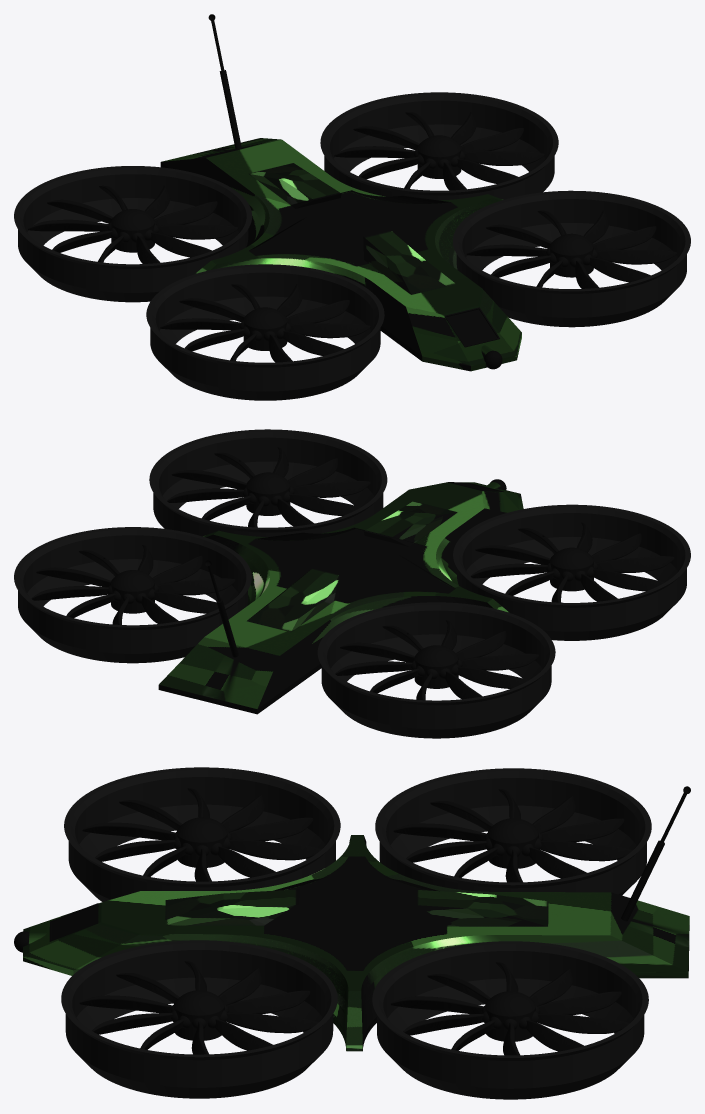
3 views of the same model, one above another, from view 1: azimuth 30°, elevation 25°; view 2: azimuth 150°, elevation 25°; view 3: azimuth 270°, elevation 25° (orthographic). The views are drawn at different scales.
Parts seen in each view (by area): view 1: camo_body1_2, motor_props_8, motor_props.001_9, motor_props.003_10, motor_props.002_11, camo_body3_4, camo_body4_5, camo_body_antenna_6, camo_body2_3; view 2: camo_body1_2, motor_props.003_10, motor_props.002_11, motor_props_8, motor_props.001_9, camo_body4_5, camo_body3_4, camo_body2_3, camo_body_antenna_6; view 3: camo_body1_2, motor_props.001_9, motor_props.002_11, motor_props_8, motor_props.003_10, camo_body4_5, camo_body3_4, camo_body_antenna_6.
Part boxes in pixels (left/top/right/bottom): camo_body1_2: left=160, top=138, right=521, bottom=371; motor_props_8: left=146, top=264, right=384, bottom=400; motor_props.001_9: left=453, top=190, right=690, bottom=327; motor_props.003_10: left=14, top=166, right=252, bottom=302; motor_props.002_11: left=320, top=92, right=558, bottom=200; camo_body3_4: left=363, top=230, right=455, bottom=294; camo_body4_5: left=249, top=163, right=341, bottom=208; camo_body_antenna_6: left=208, top=14, right=241, bottom=149; camo_body2_3: left=249, top=190, right=450, bottom=250; camo_body1_2: left=158, top=482, right=523, bottom=714; motor_props.003_10: left=317, top=602, right=555, bottom=738; motor_props.002_11: left=14, top=527, right=251, bottom=663; motor_props_8: left=453, top=504, right=690, bottom=640; motor_props.001_9: left=149, top=429, right=387, bottom=536; camo_body4_5: left=247, top=567, right=340, bottom=631; camo_body3_4: left=364, top=501, right=457, bottom=546; camo_body2_3: left=255, top=527, right=454, bottom=587; camo_body_antenna_6: left=205, top=560, right=238, bottom=657; camo_body1_2: left=23, top=835, right=689, bottom=1051; motor_props.001_9: left=61, top=940, right=337, bottom=1098; motor_props.002_11: left=372, top=941, right=648, bottom=1099; motor_props_8: left=64, top=767, right=340, bottom=901; motor_props.003_10: left=375, top=768, right=651, bottom=895; camo_body4_5: left=414, top=889, right=548, bottom=926; camo_body3_4: left=165, top=889, right=299, bottom=925; camo_body_antenna_6: left=621, top=786, right=690, bottom=921.
Bounding box in the file's own units: 16.69 × 4.75 × 16.43.
Materials: 16 (2 with a texture image).
